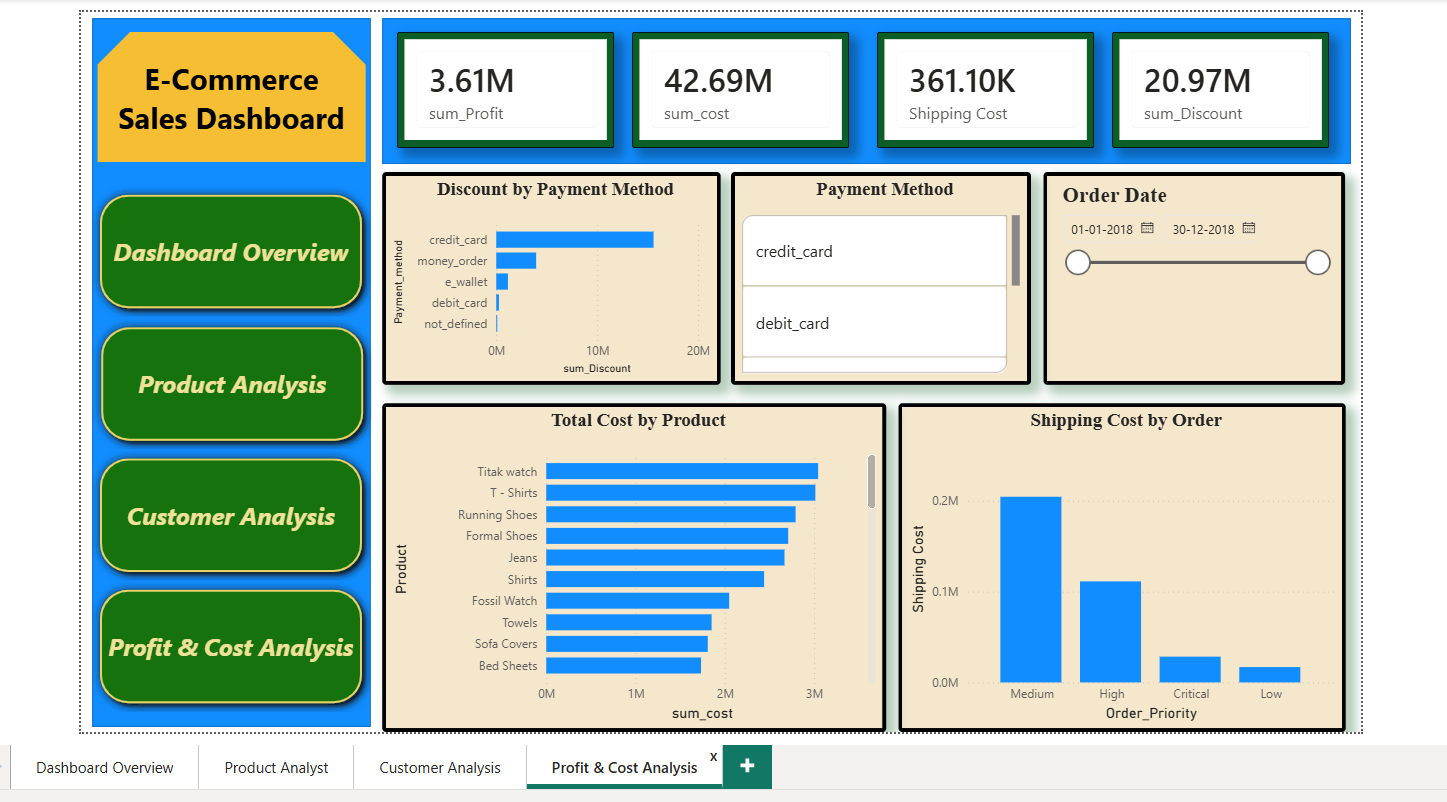

This screenshot's page, from the dashboard's own definition file:
{"tool":"powerbi","page":{"name":"Profit & Cost Analysis","canvas":[1280,720],"ordinal":3},"visuals":[{"type":"shape","box":[11.4,5.7,278.6,708.6],"z":0},{"type":"shape","box":[10,174.3,280,131.4],"z":1000},{"type":"shape","box":[11.4,305.7,280,131.4],"z":2000},{"type":"shape","box":[10,437.1,280,131.4],"z":3000},{"type":"shape","box":[10,568.6,280,131.4],"z":4000},{"type":"shape","box":[301.4,5.7,968.6,145.7],"z":5000},{"type":"cardVisual","fields":{"Data":["E-commerce Dataset.sum_Profit"]},"box":[315.7,20,217.1,115.7],"z":6000},{"type":"cardVisual","fields":{"Data":["E-commerce Dataset.sum_cost"]},"box":[551.4,20,217.1,115.7],"z":7000},{"type":"cardVisual","fields":{"Data":["E-commerce Dataset.Shipping Cost"]},"box":[795.7,20,217.1,115.7],"z":8000},{"type":"cardVisual","fields":{"Data":["E-commerce Dataset.sum_Discount"]},"box":[1031.4,20,217.1,115.7],"z":9000},{"type":"barChart","title":"Discount by Payment Method","fields":{"Y":["E-commerce Dataset.sum_Discount"],"Category":["E-commerce Dataset.Payment_method"]},"box":[301.4,160,338.6,212.9],"z":10000},{"type":"columnChart","title":"Shipping Cost by Order","fields":{"Y":["E-commerce Dataset.Shipping Cost"],"Category":["E-commerce Dataset.Order_Priority"]},"box":[817.1,391.4,447.1,328.6],"z":11000},{"type":"clusteredBarChart","title":"Total Cost by Product","fields":{"Category":["E-commerce Dataset.Product"],"Y":["E-commerce Dataset.sum_cost"]},"box":[301.4,391.4,504.3,328.6],"z":12000},{"type":"slicer","fields":{"Values":["E-commerce Dataset.Order_Date"]},"box":[962.9,160,301.4,212.9],"z":13000},{"type":"shape","box":[15.7,20,268.6,130],"z":14000},{"type":"actionButton","box":[28.6,325.7,241.4,91.4],"z":15000},{"type":"actionButton","box":[30,327.1,241.4,91.4],"z":16000},{"type":"actionButton","box":[31.4,194.3,241.4,91.4],"z":17000},{"type":"actionButton","box":[31.4,457.1,241.4,91.4],"z":18000},{"type":"actionButton","box":[31.4,588.6,241.4,91.4],"z":19000},{"type":"advancedSlicerVisual","title":"Payment Method","fields":{"Values":["E-commerce Dataset.Payment_method"],"Label":["Sum(E-commerce Dataset.Total Amount)"]},"box":[650,160,300,212.9],"z":20000}]}

Visuals, with their boxes on the page's 1280x720 design canvas (x1, y1, x2, y2). These are canvas units, not pixel positions in the 1447x802 screenshot, which may show the page scaled, cropped or inside an application window:
shape: detection(11, 6, 290, 714)
shape: detection(10, 174, 290, 306)
shape: detection(11, 306, 291, 437)
shape: detection(10, 437, 290, 568)
shape: detection(10, 569, 290, 700)
shape: detection(301, 6, 1270, 151)
cardVisual - E-commerce Dataset.sum_Profit: detection(316, 20, 533, 136)
cardVisual - E-commerce Dataset.sum_cost: detection(551, 20, 768, 136)
cardVisual - E-commerce Dataset.Shipping Cost: detection(796, 20, 1013, 136)
cardVisual - E-commerce Dataset.sum_Discount: detection(1031, 20, 1248, 136)
"Discount by Payment Method" barChart: detection(301, 160, 640, 373)
"Shipping Cost by Order" columnChart: detection(817, 391, 1264, 720)
"Total Cost by Product" clusteredBarChart: detection(301, 391, 806, 720)
slicer - E-commerce Dataset.Order_Date: detection(963, 160, 1264, 373)
shape: detection(16, 20, 284, 150)
actionButton: detection(29, 326, 270, 417)
actionButton: detection(30, 327, 271, 418)
actionButton: detection(31, 194, 273, 286)
actionButton: detection(31, 457, 273, 548)
actionButton: detection(31, 589, 273, 680)
"Payment Method" advancedSlicerVisual: detection(650, 160, 950, 373)
